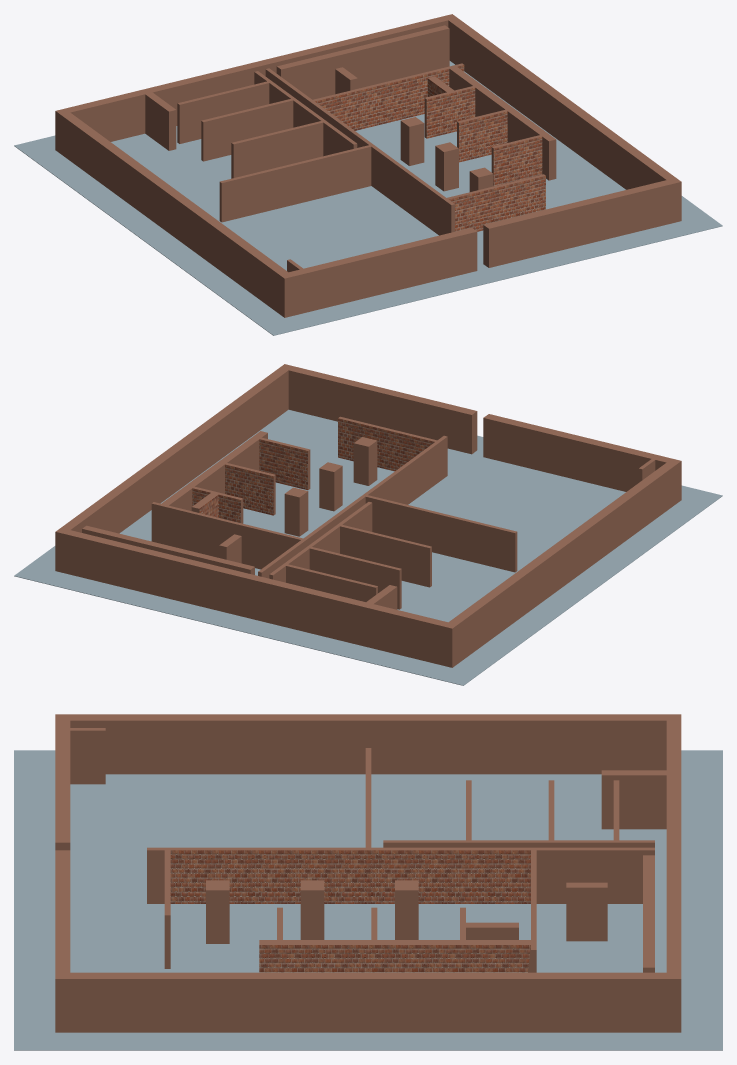
The model's file is walls_floor_2.dae.
3 renders of one model, top to bottom at view 1: azimuth 30°, elevation 25°; view 2: azimuth 150°, elevation 25°; view 3: azimuth 270°, elevation 25°, orthographic. The views are drawn at different scales.
Visible parts, largest first — view 1: walls, floorplane; view 2: walls, floorplane; view 3: walls, floorplane.
Part boxes in pixels (left/top/right/bottom): walls: left=55, top=14, right=681, bottom=317; floorplane: left=14, top=61, right=722, bottom=335; walls: left=55, top=364, right=681, bottom=667; floorplane: left=14, top=409, right=722, bottom=685; walls: left=55, top=714, right=681, bottom=1032; floorplane: left=14, top=750, right=722, bottom=1050.
Size of the model in its own units: 238 by 238 by 20.12.
